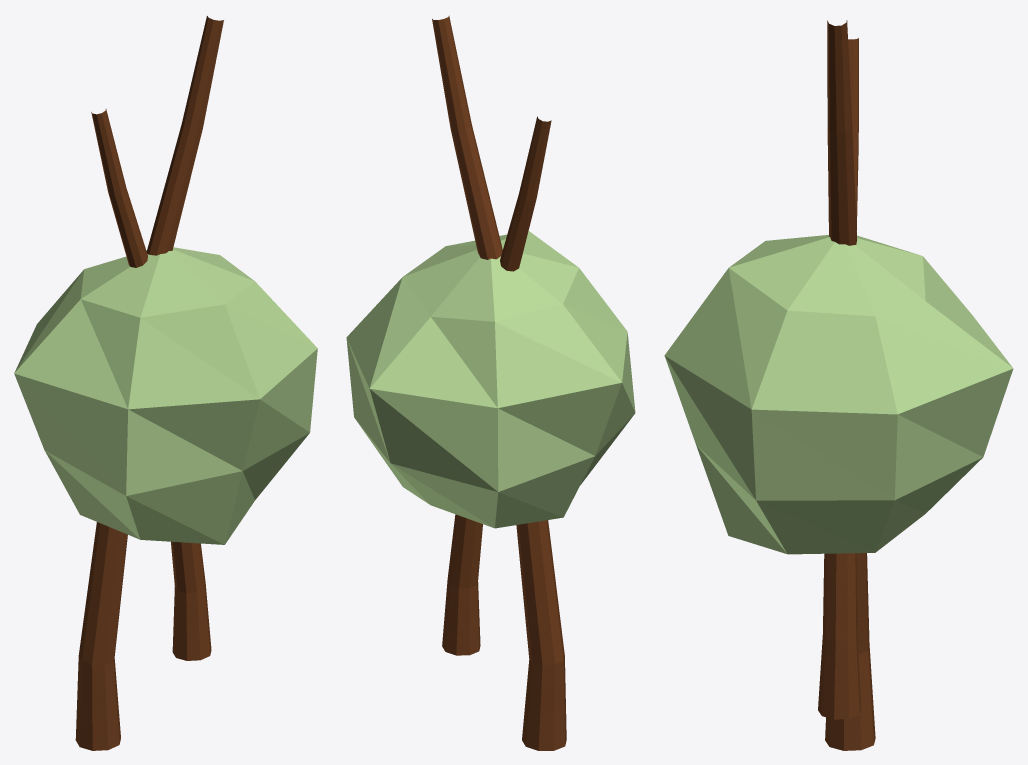
The model's file is nature_sapling_pair.glb.
3 views of the same model, side by side, from view 1: azimuth 30°, elevation 25°; view 2: azimuth 150°, elevation 25°; view 3: azimuth 270°, elevation 25° (orthographic). The views are drawn at different scales.
Visible parts, largest first — view 1: world; view 2: world; view 3: world.
Boxes of the visible parts, x1,y1,x2,y2 form: world: [14, 16, 317, 750]; world: [346, 15, 635, 750]; world: [664, 20, 1013, 750].
Bounding box in the file's own units: 0.7756 × 2 × 0.807.
2 materials, 1 textured.
